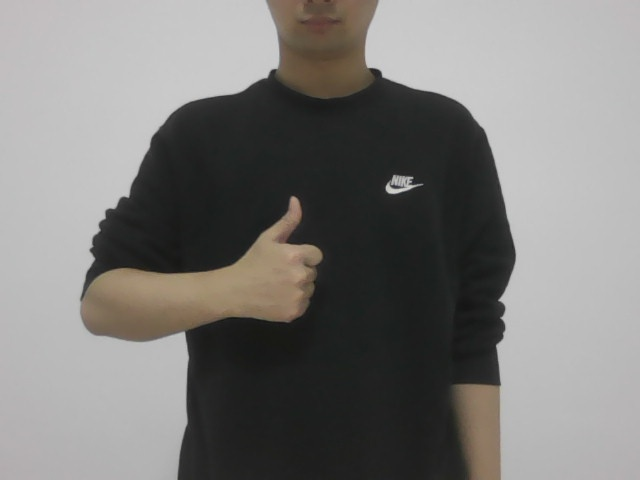good: (241, 182, 342, 335)
